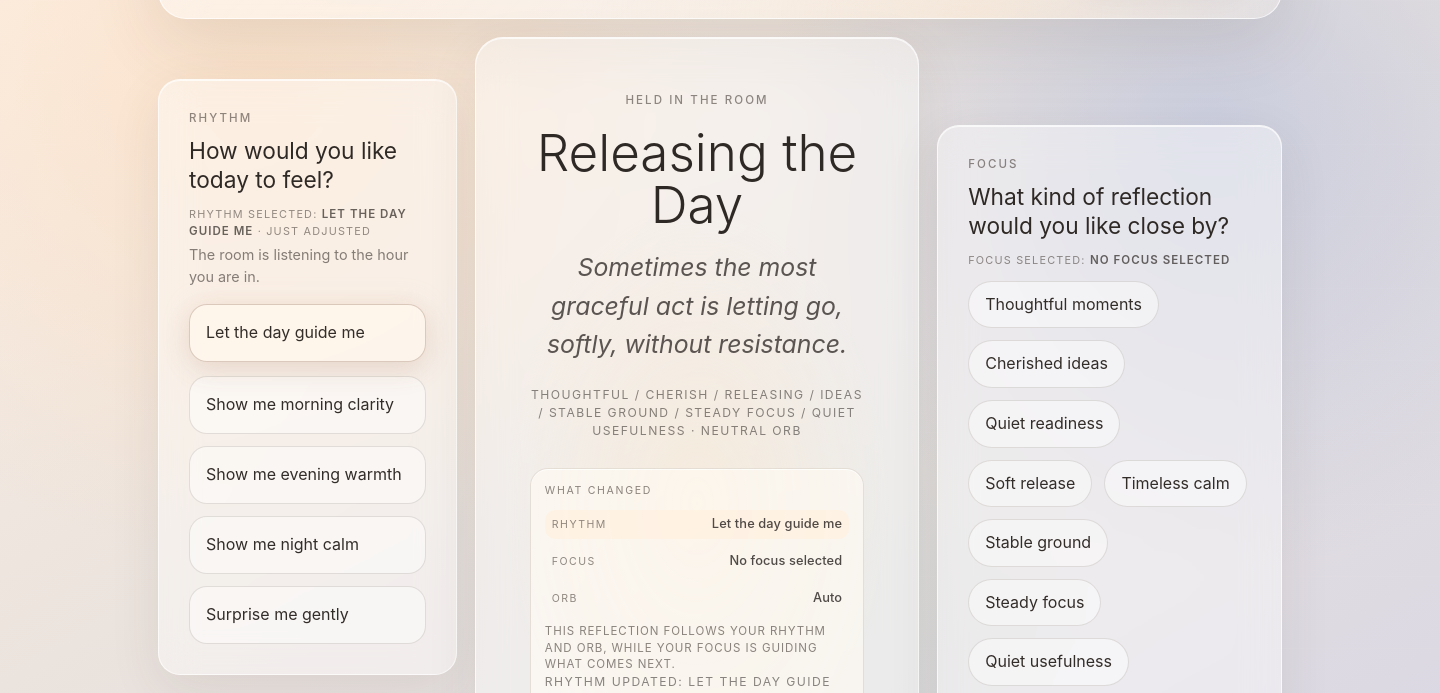
Scenario: Quiet Room › responds when the rhythm changes
The image size is (1440, 693).
(page scrolled)
Click the button "Show me morning clarity" at {"x": 307, "y": 405}, box 189,376 -> 426,434
(page scrolled)
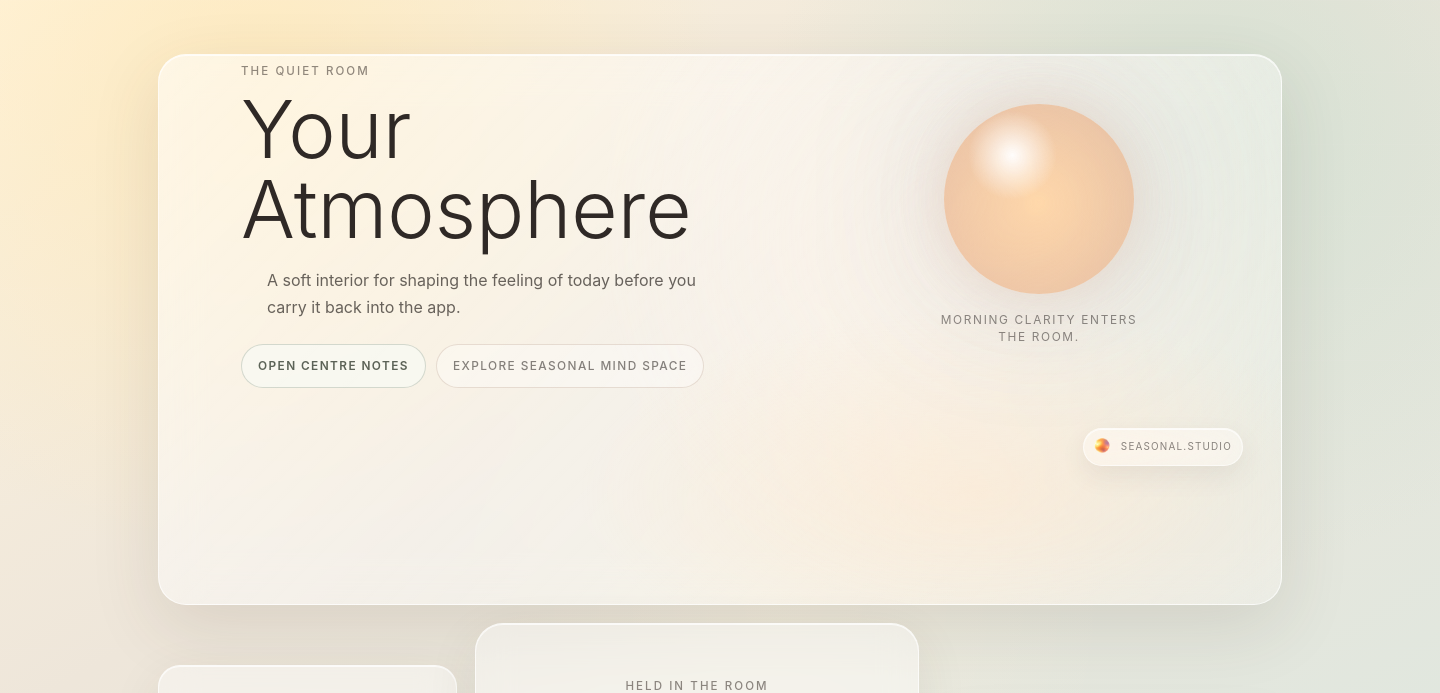
Result: the text "Morning clarity enters the room." is shown at 927,312 -> 1151,347
